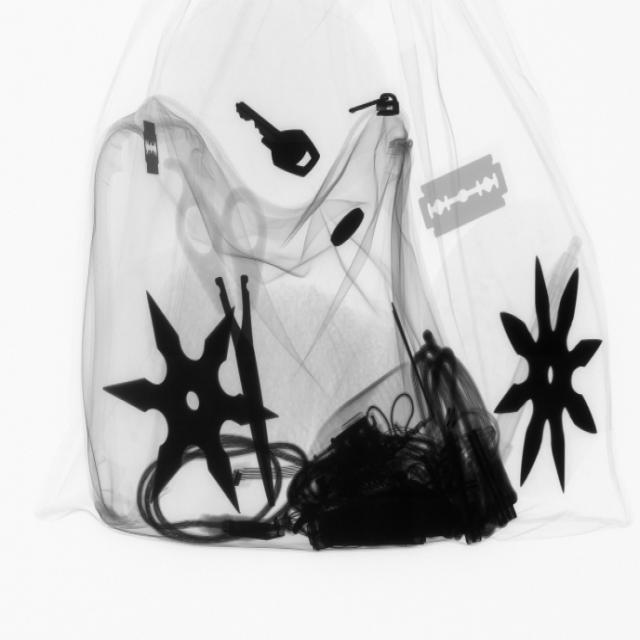BLADE: (413, 143, 516, 248), (139, 114, 172, 188)
SHURIKEN: (107, 286, 269, 511), (493, 250, 610, 497)
